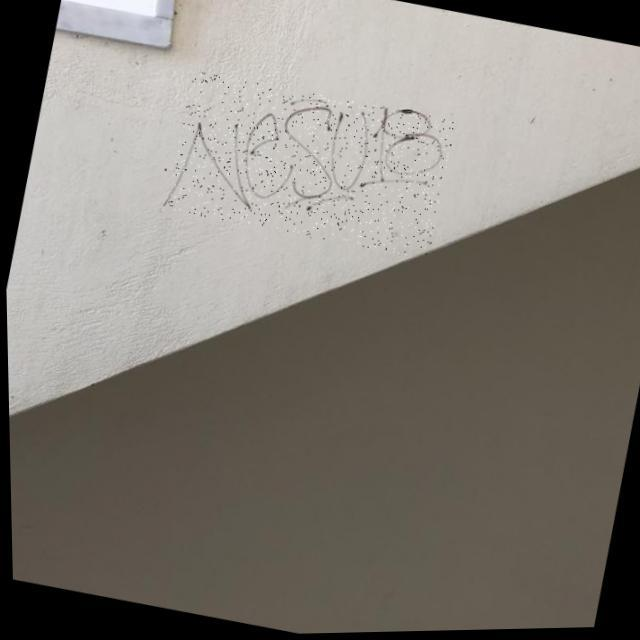-: (162, 67, 456, 266)
